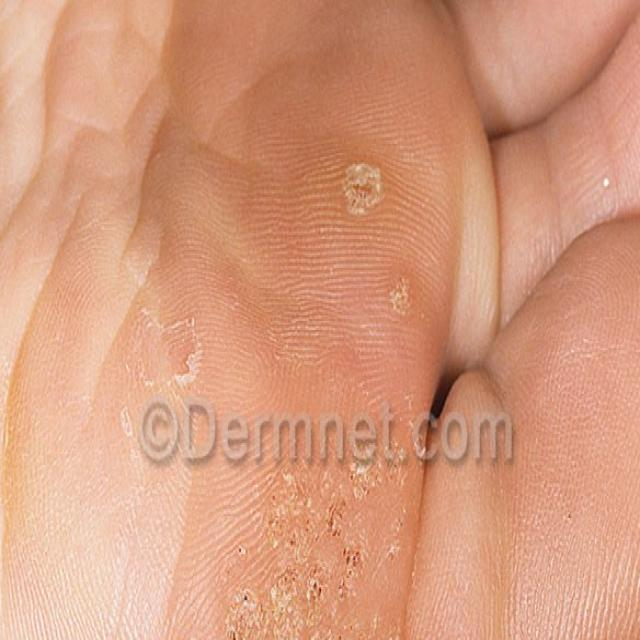Warts: (130, 295, 445, 640), (322, 144, 407, 208)
